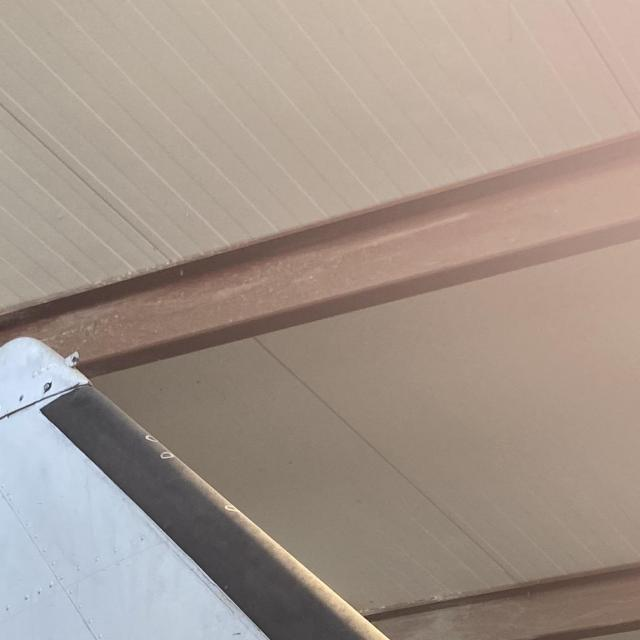Crack: (76, 380, 93, 387)
